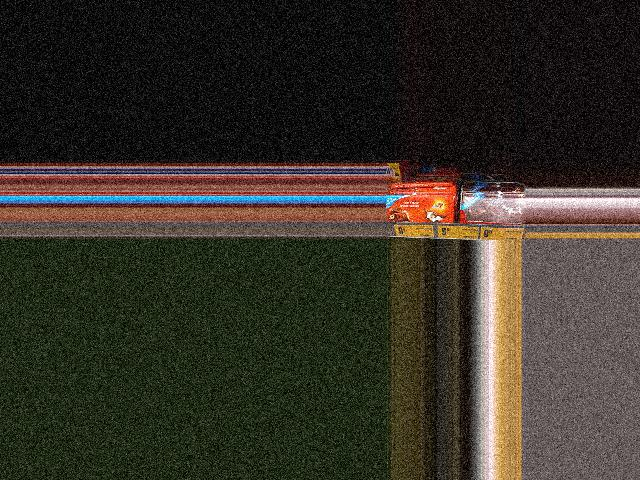chocolate: (466, 192, 526, 230)
